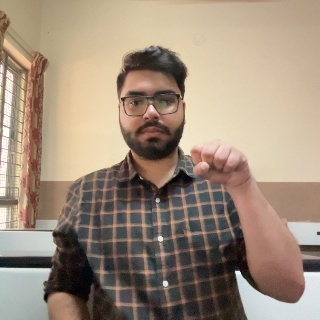Face: (116, 54, 187, 156)
Yes: (193, 138, 256, 205)
